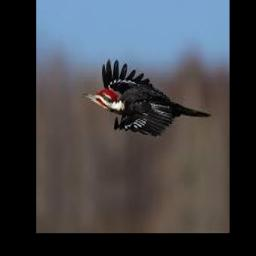Woodpecker: (82, 58, 211, 137)
